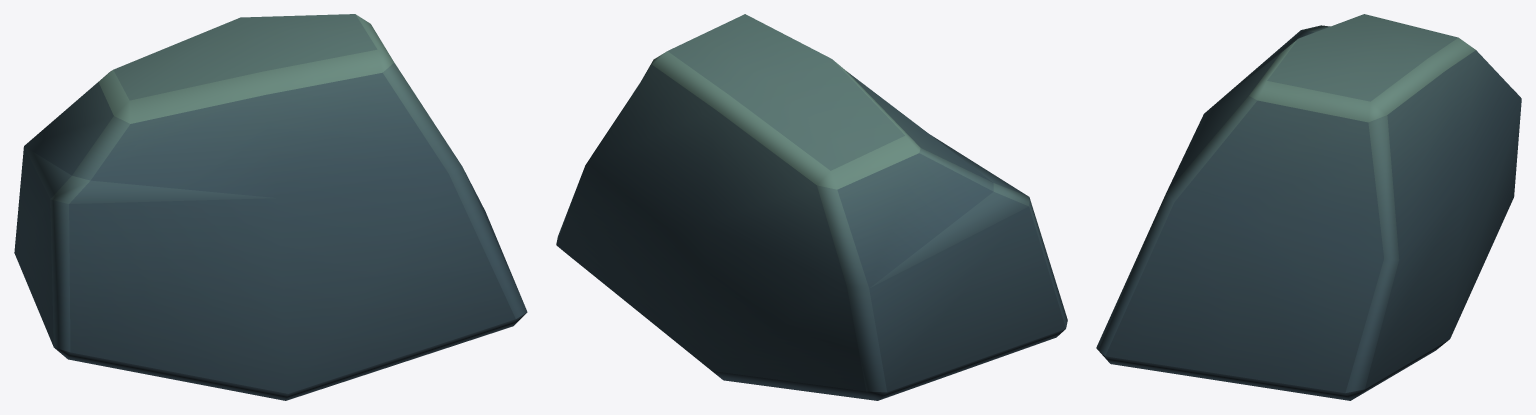
Rendered from rock_25.fbx.
The picture shows the model from 3 angles, left to right: view 1: azimuth 30°, elevation 25°; view 2: azimuth 150°, elevation 25°; view 3: azimuth 270°, elevation 25°; orthographic projection. The views are drawn at different scales.
Visible parts, largest first — view 1: rock_25; view 2: rock_25; view 3: rock_25.
Part boxes in pixels (x1,y1,x2,y2): rock_25: (14, 14, 527, 400); rock_25: (556, 14, 1067, 400); rock_25: (1096, 14, 1521, 400).
Size of the model in its own units: 347 by 203 by 261.
